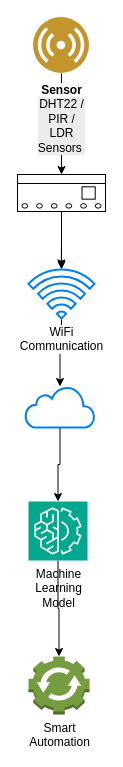
This 123x767 diagram has some shape labels left out. Here are the shapes that lost their labels. From the top down, the centre of each, then its label:
the point at 61,193: ESP32
the point at 59,406: ThingSpeak Cloud
